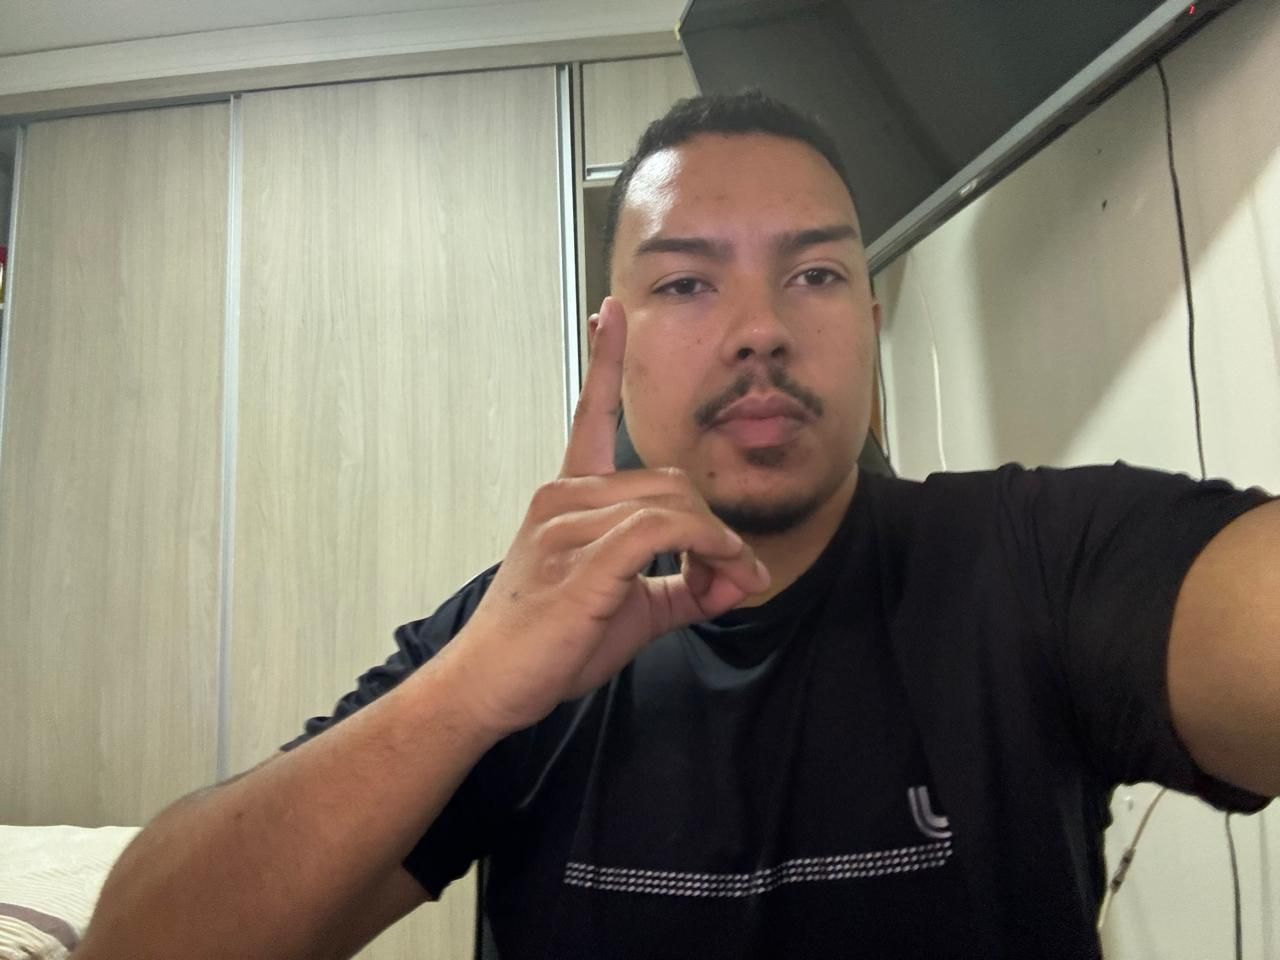d: (452, 290, 783, 738)
